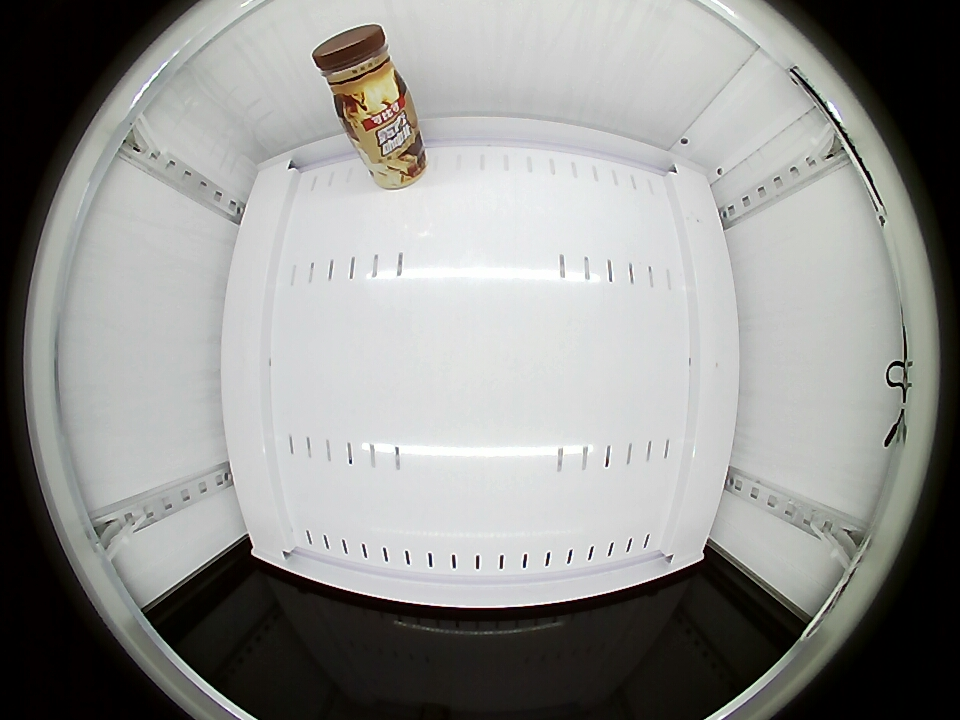lujikafei: (311, 22, 408, 118)
